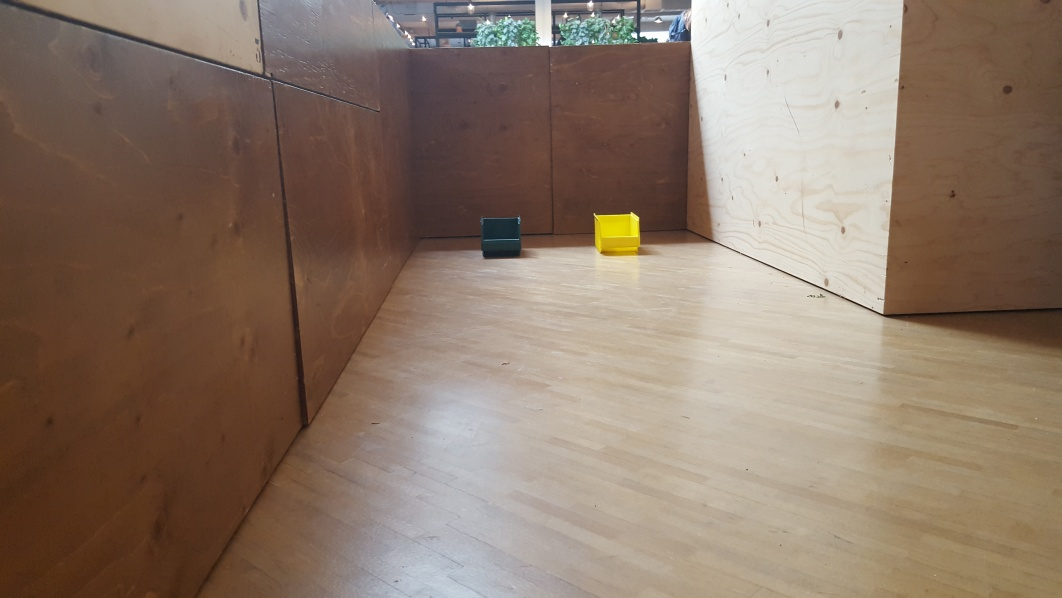tray: (585, 209, 643, 256), (477, 213, 526, 259)
